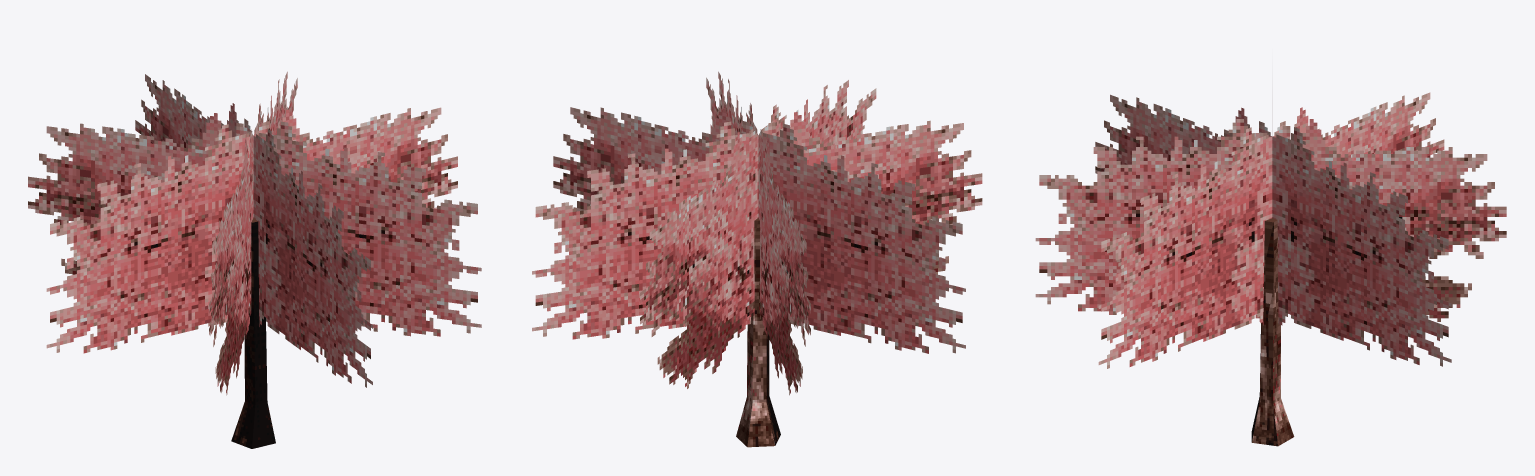
File: Sakura Tree.glb
3 views of the same model, side by side, from view 1: azimuth 30°, elevation 25°; view 2: azimuth 150°, elevation 25°; view 3: azimuth 270°, elevation 25° (orthographic).
Parts seen in each view (by area): view 1: Bush 2.001, Trunk.003; view 2: Bush 2.001, Trunk.003; view 3: Bush 2.001, Trunk.003.
Boxes of the visible parts, <box> form: Bush 2.001: <box>28,71,481,395</box>; Trunk.003: <box>231,218,275,448</box>; Bush 2.001: <box>532,71,982,395</box>; Trunk.003: <box>736,218,780,447</box>; Bush 2.001: <box>1035,92,1506,368</box>; Trunk.003: <box>1251,218,1294,446</box>.
Size of the model in its own units: 42.8 by 30.21 by 42.8.
Materials: 1 (1 with a texture image).
